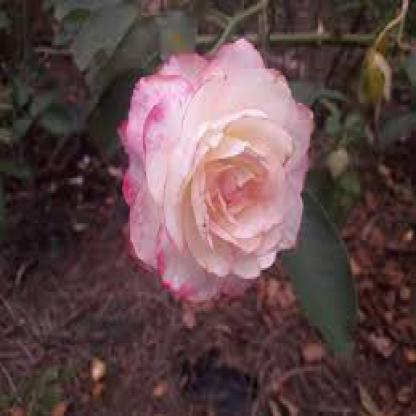Rose-Mawar: (121, 31, 311, 310)
